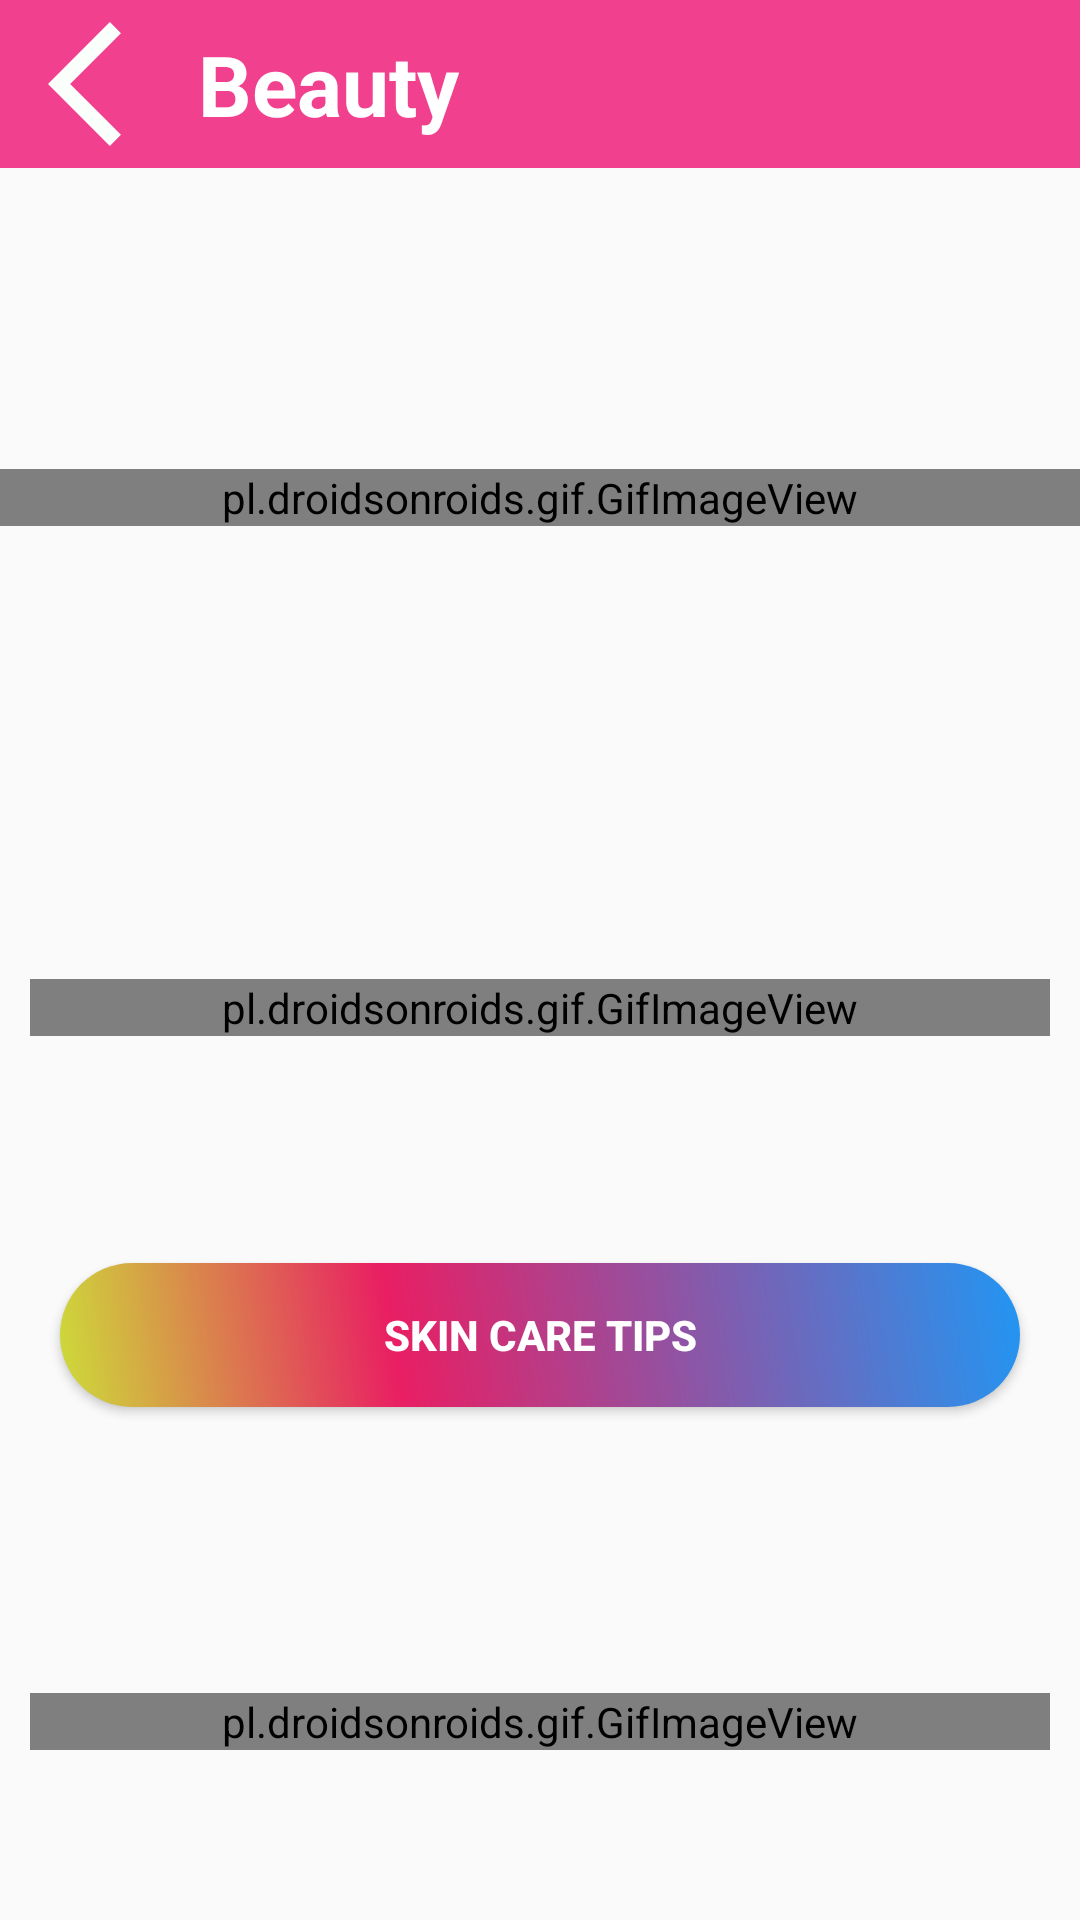

Screen size 1080*1920. Icon name, then its center in pixels as (x=x, y=y):
arrow back: (x=84, y=84)
